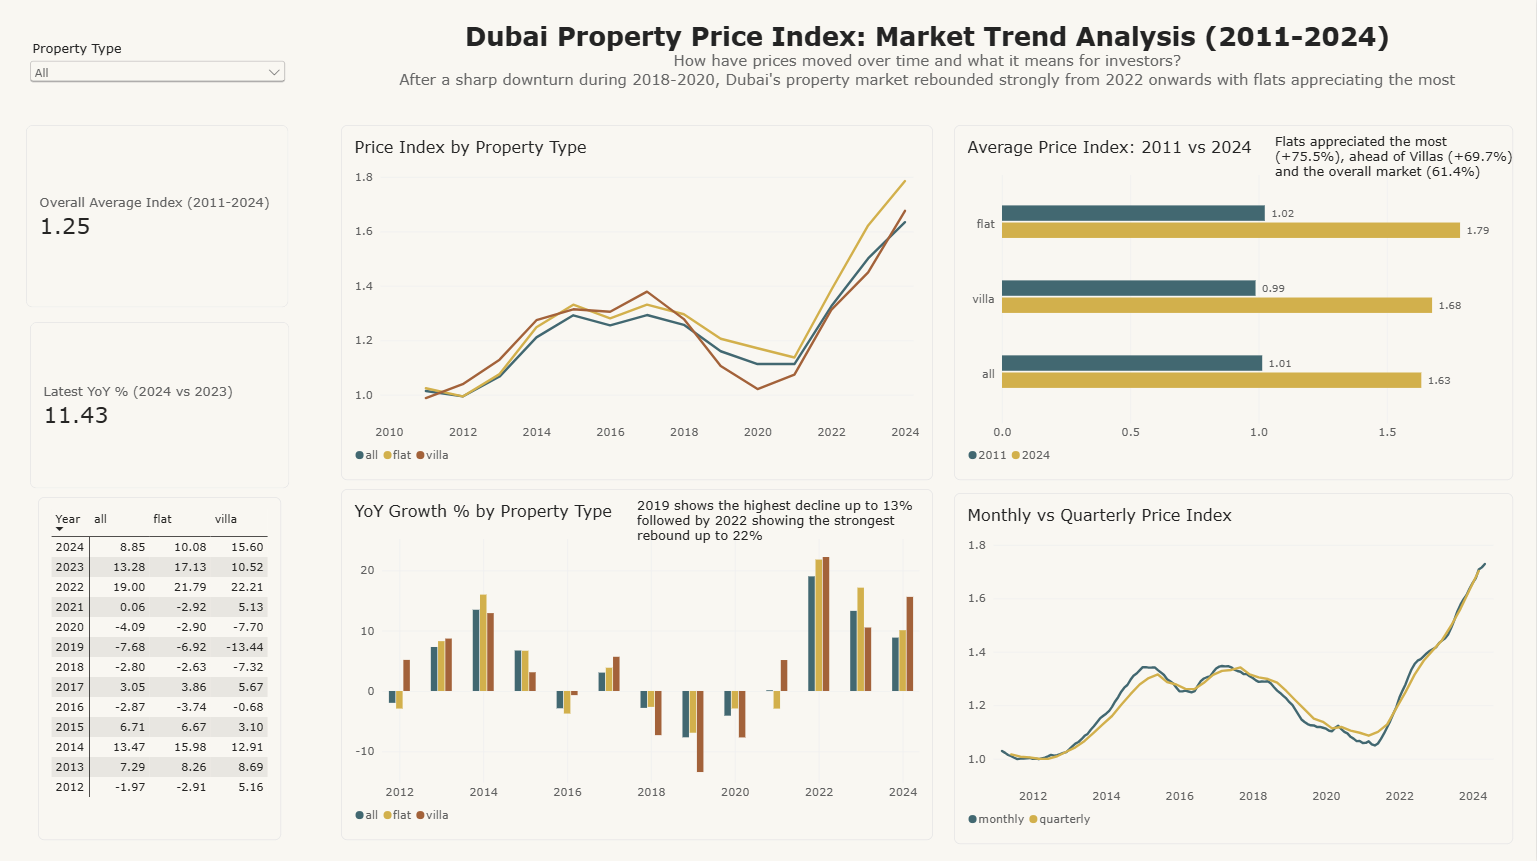

The dashboard page shown, as its layout file describes it:
{"tool":"powerbi","page":{"name":"Market Trend Analysis","canvas":[1920,1080],"ordinal":0},"visuals":[{"type":"pivotTable","fields":{"Columns":["PriceIndex.Property Type"],"Rows":["PriceIndex.Year"],"Values":["PriceIndex.YoY %"]},"box":[47.1,622.9,304.3,428.6],"z":0},{"type":"lineChart","title":"Price Index  by Property Type","fields":{"Category":["YearlyAvgIndex.Year"],"Series":["YearlyAvgIndex.Property Type"],"Y":["Sum(YearlyAvgIndex.AvgIndex)"]},"box":[425.7,157.1,740,444.3],"z":1000},{"type":"cardVisual","fields":{"Data":["Avg(YearlyAvgIndex.AvgIndex)"]},"box":[32.9,157.1,328.6,228.6],"z":2000},{"type":"cardVisual","fields":{"Data":["PriceIndex.YoY %"]},"box":[37.1,404.3,324.3,208.6],"z":3000},{"type":"slicer","fields":{"Values":["PropertyTypeLookup.PropertyType"]},"box":[32.9,51.4,328.6,68.6],"z":4000},{"type":"clusteredColumnChart","title":"YoY Growth % by Property Type","fields":{"Category":["PriceIndex.Year"],"Series":["PriceIndex.Property Type"],"Y":["PriceIndex.YoY %"]},"box":[425.7,612.9,740,438.6],"z":5000},{"type":"clusteredBarChart","title":"Average Price Index: 2011 vs 2024 ","fields":{"Category":["YearlyAvgIndex.Property Type"],"Series":["YearlyAvgIndex.Year"],"Y":["Avg(YearlyAvgIndex.AvgIndex)"]},"box":[1192.9,157.1,698.6,444.3],"z":6000},{"type":"lineChart","title":"Monthly vs Quarterly Price Index","fields":{"Category":["PriceIndex.First Date of Month"],"Series":["PriceIndex.Frequency"],"Y":["Avg(PriceIndex.Value)"]},"box":[1192.9,617.1,698.6,438.6],"z":7000},{"type":"textbox","box":[425.7,25.7,1465.7,111.4],"z":8000},{"type":"textbox","box":[1594.3,167.1,297.1,62.9],"z":9000},{"type":"textbox","box":[795.7,622.9,351.4,64.3],"z":9001}]}

Visuals, with their boxes in screenshot pixels (x1, y1, x2, y2), scaled from the page's 1920x1080 canvas onto the 1537x861 screenshot:
pivotTable - PriceIndex.Property Type x PriceIndex.Year: [38,497,281,838]
"Price Index  by Property Type" lineChart: [341,125,933,479]
cardVisual - Avg(YearlyAvgIndex.AvgIndex): [26,125,289,307]
cardVisual - PriceIndex.YoY %: [30,322,289,489]
slicer - PropertyTypeLookup.PropertyType: [26,41,289,96]
"YoY Growth % by Property Type" clusteredColumnChart: [341,489,933,838]
"Average Price Index: 2011 vs 2024 " clusteredBarChart: [955,125,1514,479]
"Monthly vs Quarterly Price Index" lineChart: [955,492,1514,842]
textbox: [341,20,1514,109]
textbox: [1276,133,1514,183]
textbox: [637,497,918,548]
